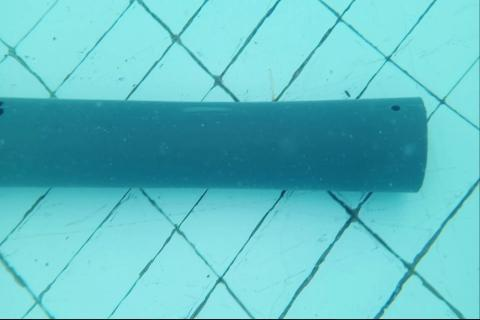kebocoran: (390, 103, 400, 111), (0, 100, 4, 117)
